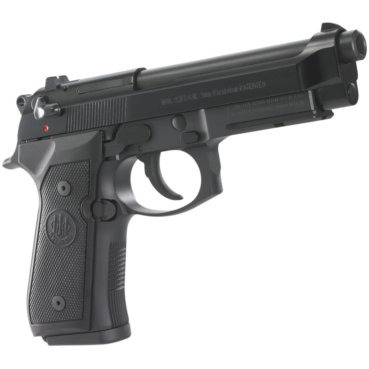gun: (4, 19, 369, 346)
